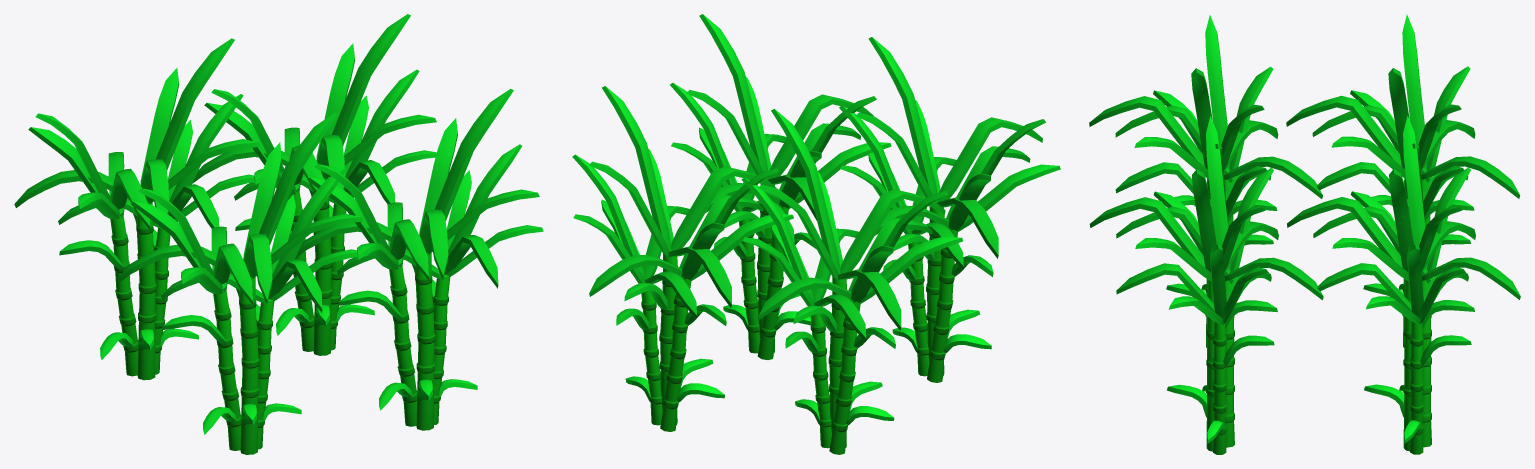
The model's file is Farm_Crop_Sugurcane_Step_02.fbx.
3 renders of one model, left to right at view 1: azimuth 30°, elevation 25°; view 2: azimuth 150°, elevation 25°; view 3: azimuth 270°, elevation 25°, orthographic. The views are drawn at different scales.
Visible parts, largest first — view 1: Farm_Crop_Sugurcane_Step_02; view 2: Farm_Crop_Sugurcane_Step_02; view 3: Farm_Crop_Sugurcane_Step_02.
Part boxes in pixels (x1,y1,x2,y2): Farm_Crop_Sugurcane_Step_02: (14, 14, 543, 454); Farm_Crop_Sugurcane_Step_02: (572, 14, 1060, 454); Farm_Crop_Sugurcane_Step_02: (1089, 14, 1520, 454).
Size of the model in its own units: 220 by 186 by 219.
